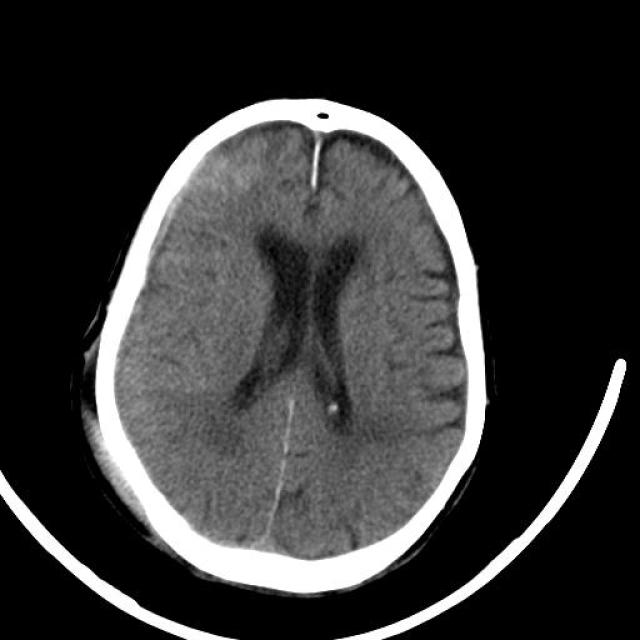Subdural: (116, 125, 250, 281)
